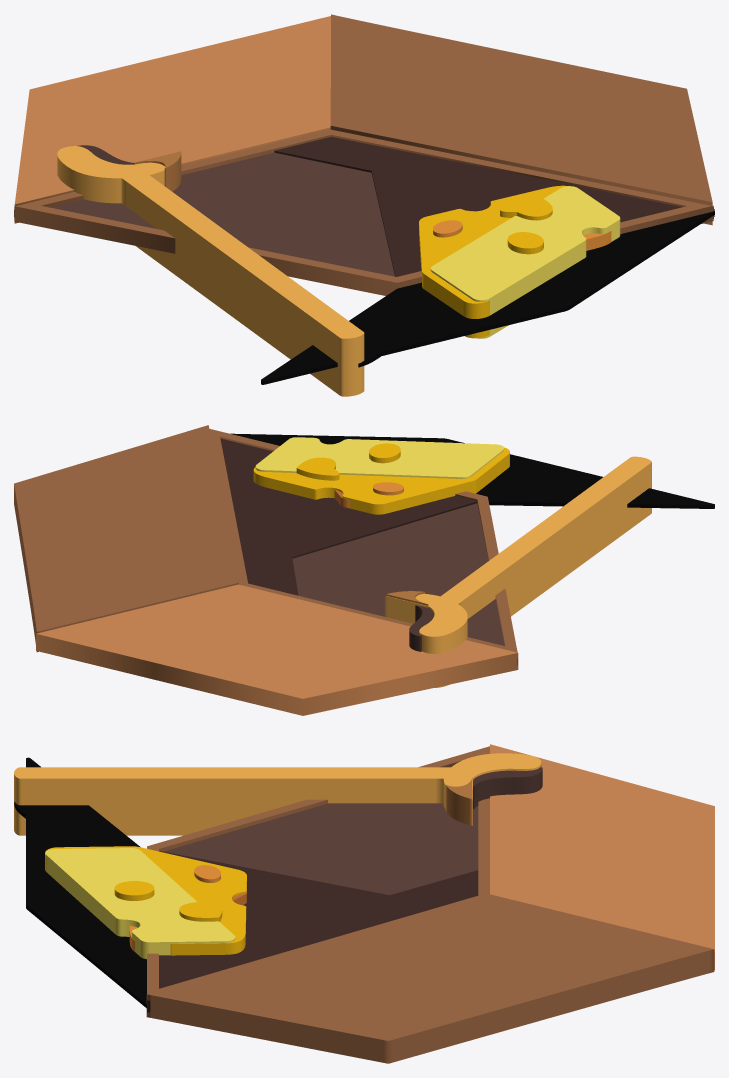
Rendered from emoji_u1faa4.glb.
The picture shows the model from 3 angles, top to bottom: view 1: azimuth 30°, elevation 25°; view 2: azimuth 150°, elevation 25°; view 3: azimuth 270°, elevation 25°; orthographic projection. The views are drawn at different scales.
Visible parts, largest first — view 1: emoji_u1faa4; view 2: emoji_u1faa4; view 3: emoji_u1faa4.
Boxes of the visible parts, x1,y1,x2,y2 form: emoji_u1faa4: [14, 14, 714, 396]; emoji_u1faa4: [14, 425, 714, 715]; emoji_u1faa4: [14, 744, 714, 1063].
Bounding box in the file's own units: 0.0337 × 0.0032 × 0.0334.
